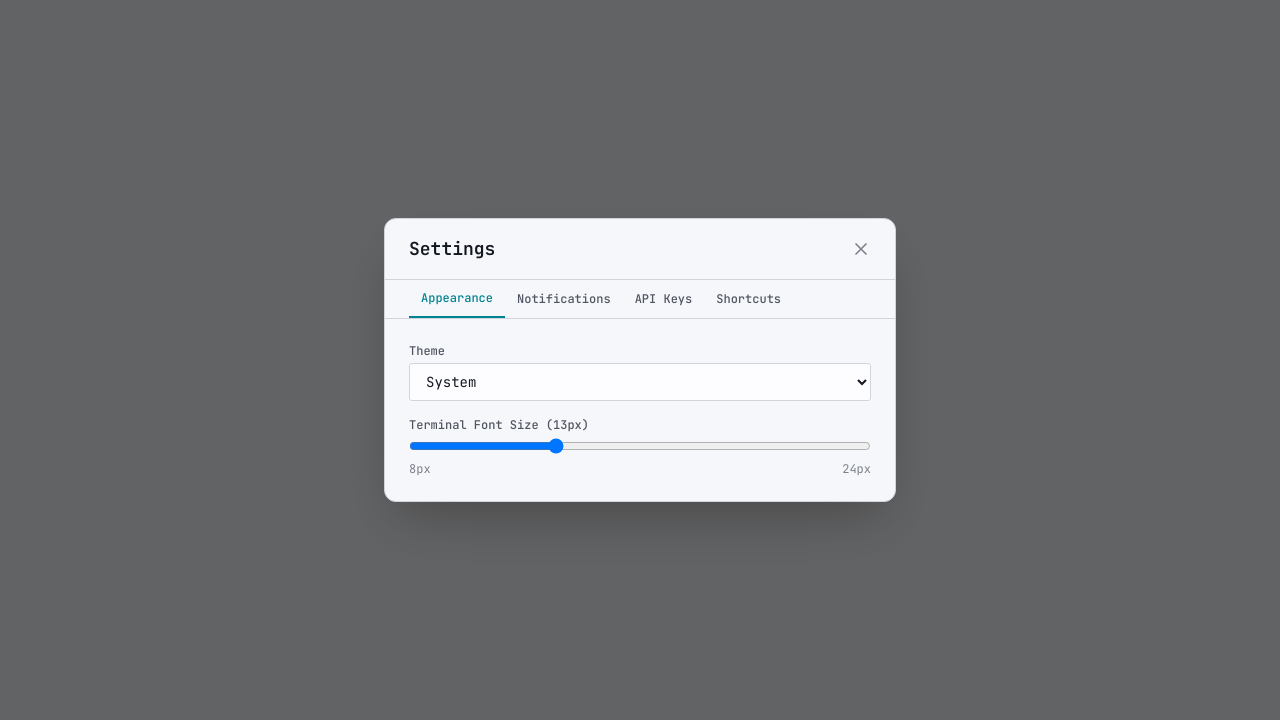
Test: SettingsModal › switches to Shortcuts tab
Click the button "Shortcuts".
click(749, 299)  # box [704, 280, 793, 318]
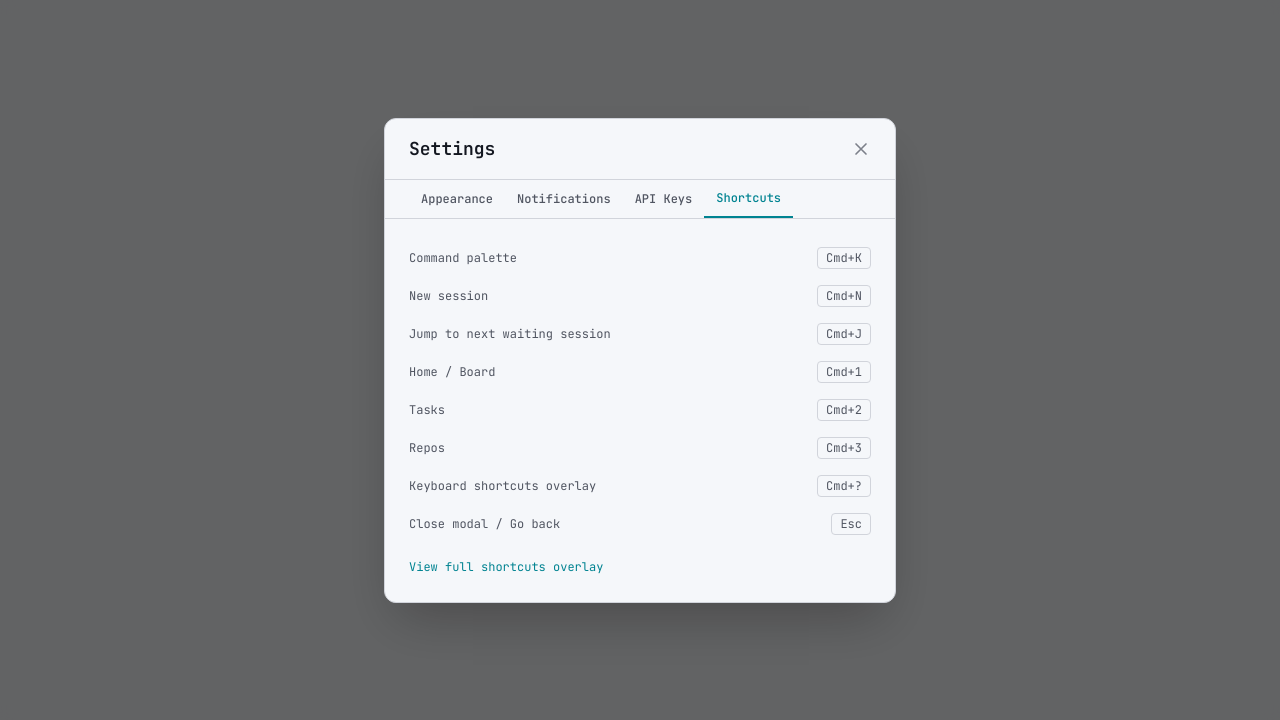
Expected: the text "Command palette" is shown, [409, 250, 517, 266]
